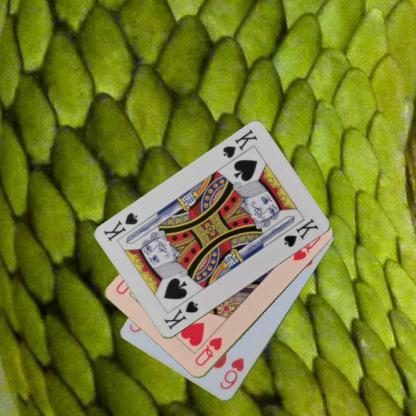6h: (217, 355, 246, 392)
Ks: (161, 298, 200, 332), (220, 127, 259, 160)
Qh: (192, 335, 224, 368)
